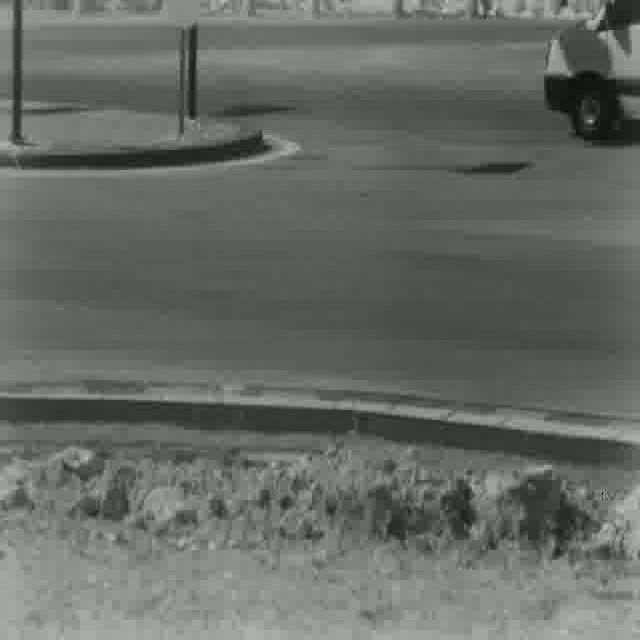Car: (539, 0, 640, 142)
